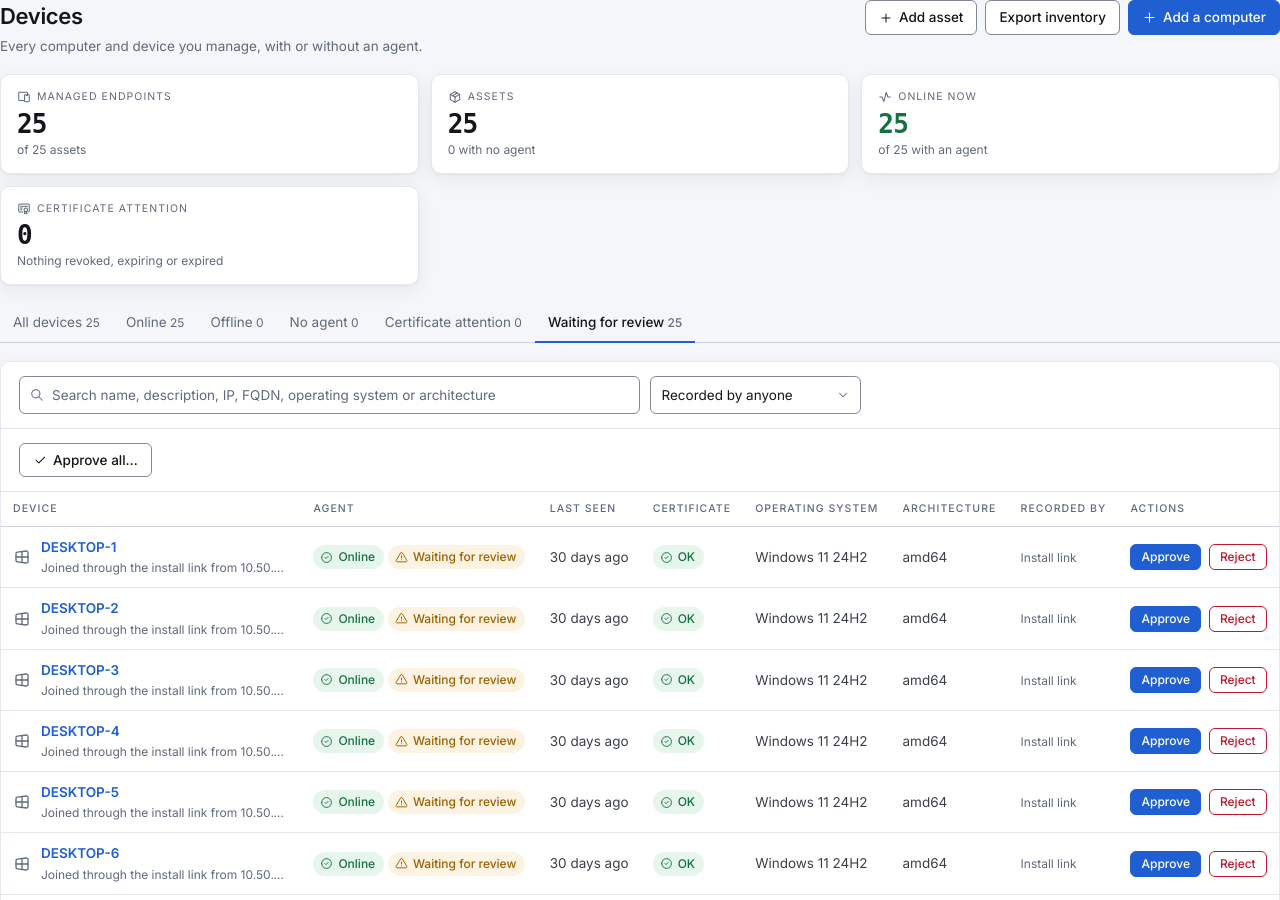
it: Approve all on Devices › names the machines, sends exactly that list with its digest, and reports the result
This screenshot has width=1280, height=900.
Click the button "Approve all…" at (85, 460), box [19,443,152,477]
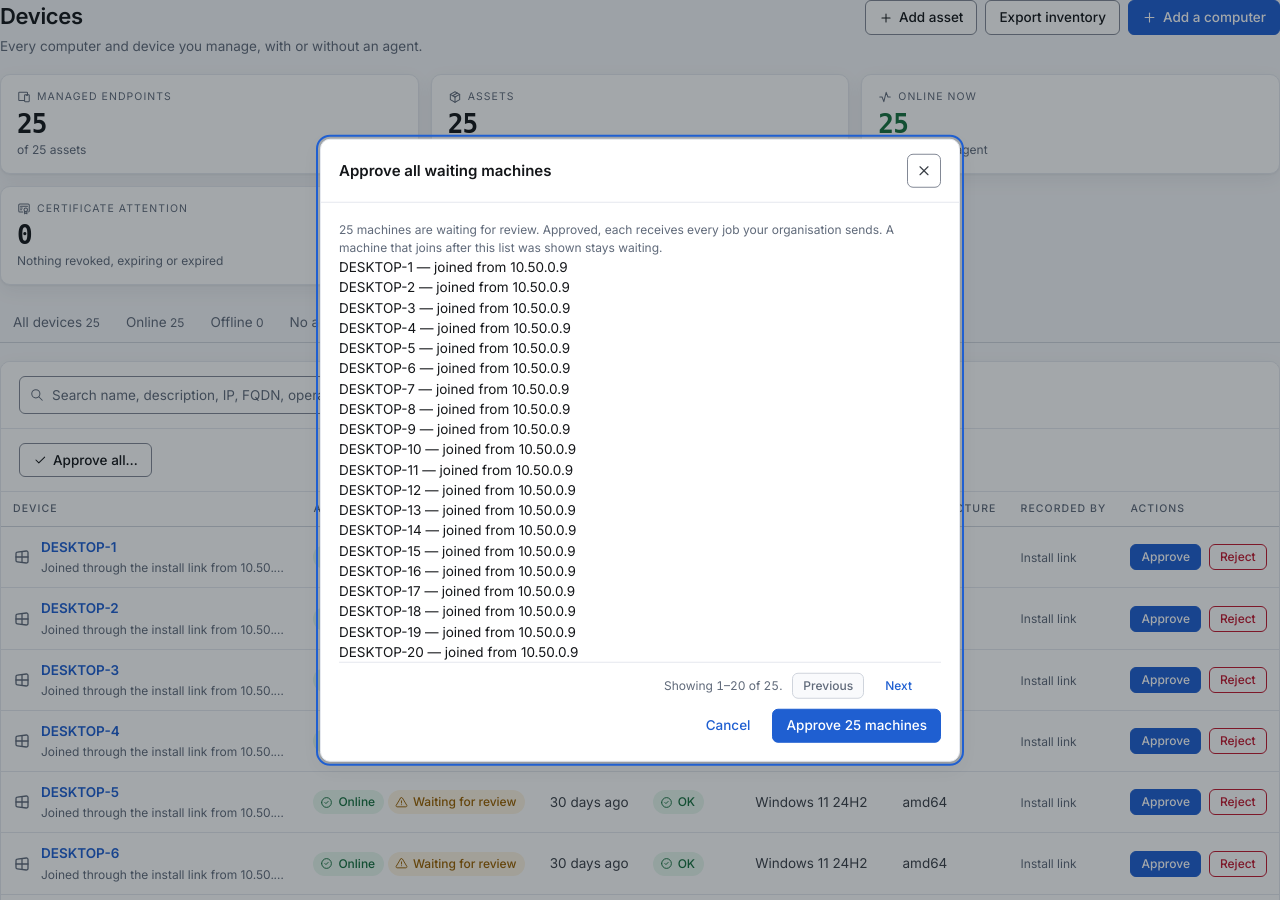
Result: the number of list items is 20
Result: the text "Showing 1–20 of 25." is shown at [664,677,782,695]
Click the button with aria-label "Next page of the machines to approve" at (899, 686), box [874,673,923,699]
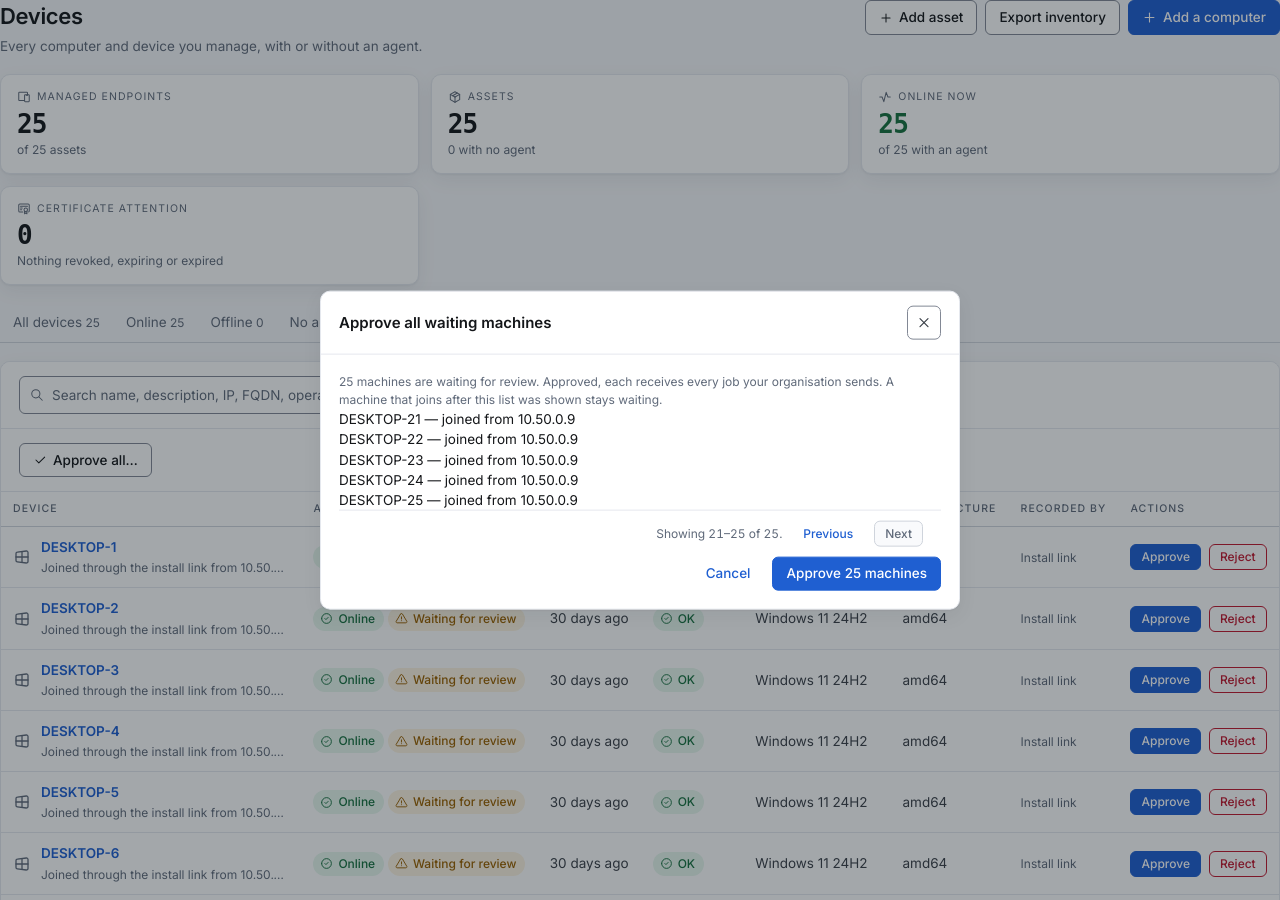
Result: the number of list items is 5 at [339,411,575,427]; [339,431,578,447]; [339,451,578,467]; [339,471,578,487]; [339,492,578,508]
Click the button "Approve 25 machines" at (857, 574), box [772,557,941,590]
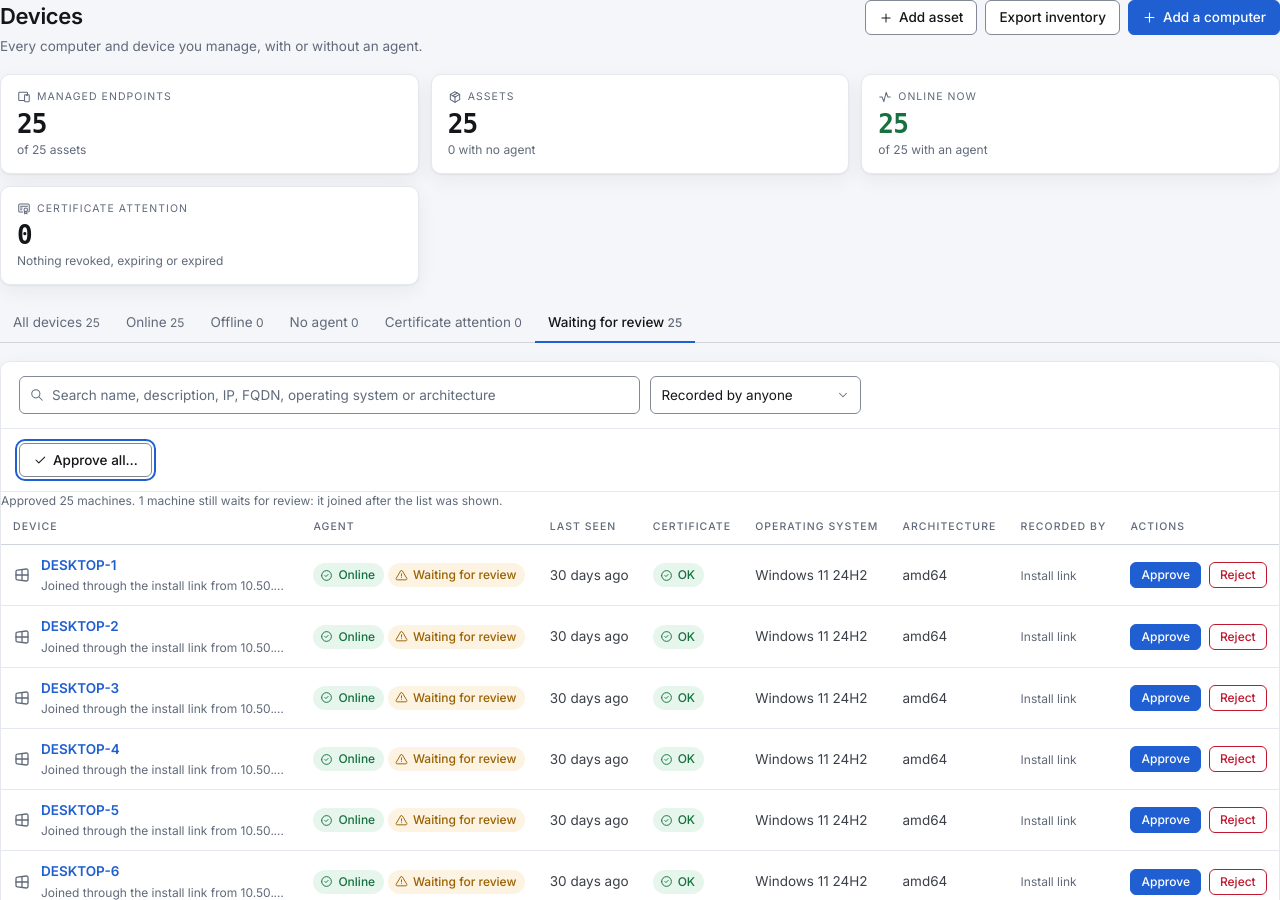
Result: the text "Approved 25 machines. 1 machine still waits for review: it joined after the list was shown." is shown at [1,493,502,508]
Result: the dialog is gone
